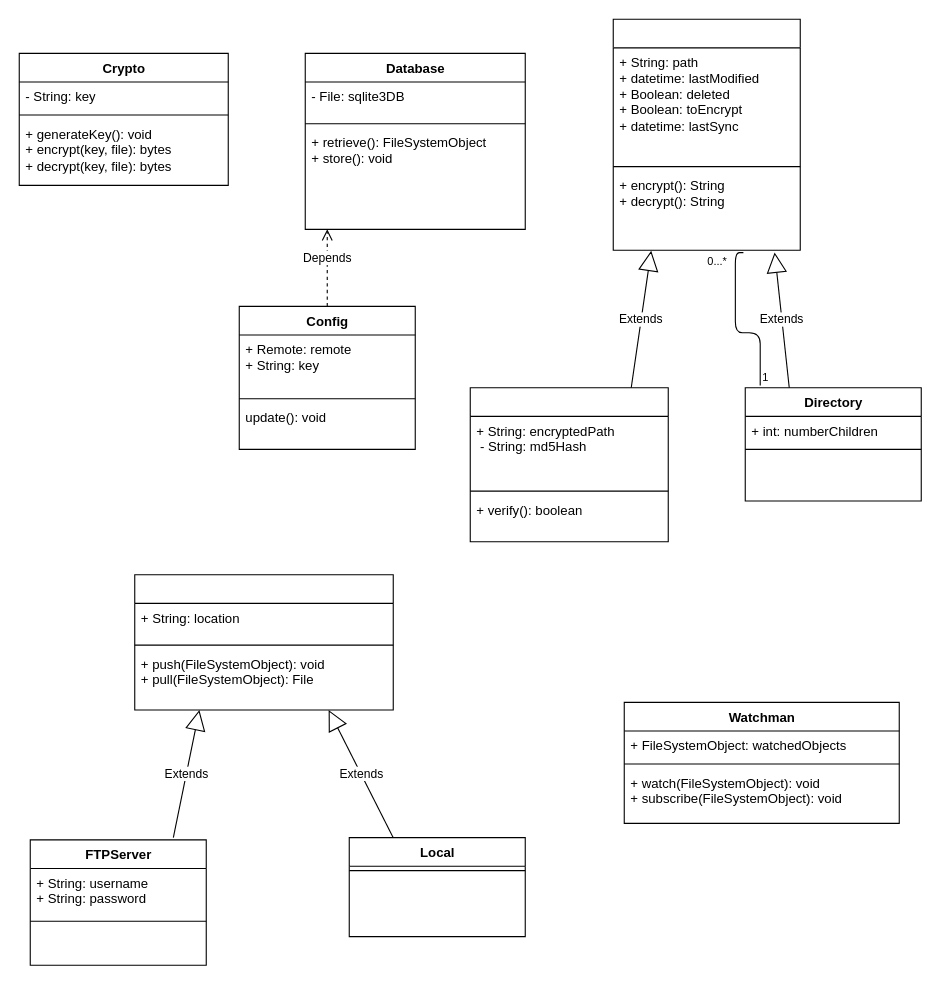
Image size: 941x985. Some labels were removed from this diagram. Here are the shapes that lost their labels. From the top down, the box of each, then its label:
(612, 18, 800, 250): FileSystemObject
(469, 387, 668, 542): File
(134, 574, 393, 710): Remote
